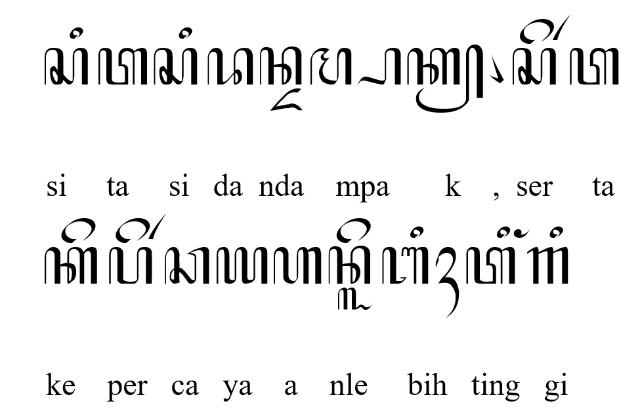-k: (406, 43, 484, 113)
_d: (269, 87, 303, 113)
_h1: (436, 246, 460, 318)
_l: (337, 288, 373, 312)
_p: (356, 46, 402, 85)
_r1: (552, 13, 572, 41), (148, 213, 168, 240)
b: (381, 247, 431, 285)
c: (163, 246, 210, 286)
d: (207, 46, 256, 88)
e: (114, 218, 150, 245), (335, 218, 371, 245), (60, 218, 96, 244), (520, 18, 554, 44)
g: (527, 246, 569, 286)
h: (272, 246, 322, 286)
i: (68, 26, 84, 40), (179, 26, 193, 40), (496, 226, 510, 240), (548, 227, 564, 239), (410, 226, 424, 239)
k: (44, 246, 98, 286)
kom: (488, 52, 504, 84)
m: (309, 46, 353, 85)
n: (258, 46, 302, 86), (328, 246, 372, 286)
ng: (512, 229, 530, 239)
p: (108, 246, 154, 286)
s: (512, 48, 558, 86), (44, 46, 88, 85), (153, 48, 197, 86)
t: (466, 246, 516, 286), (98, 48, 148, 86), (569, 48, 619, 86)
y: (216, 247, 268, 285)
